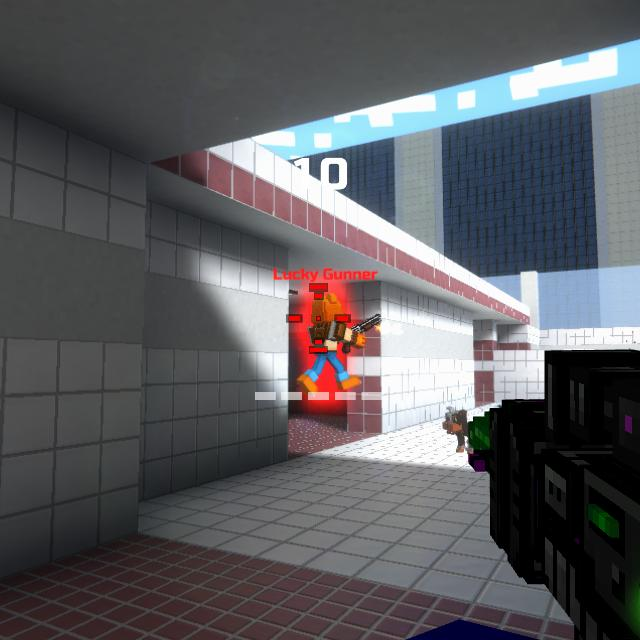Enemy: (299, 292, 366, 395)
